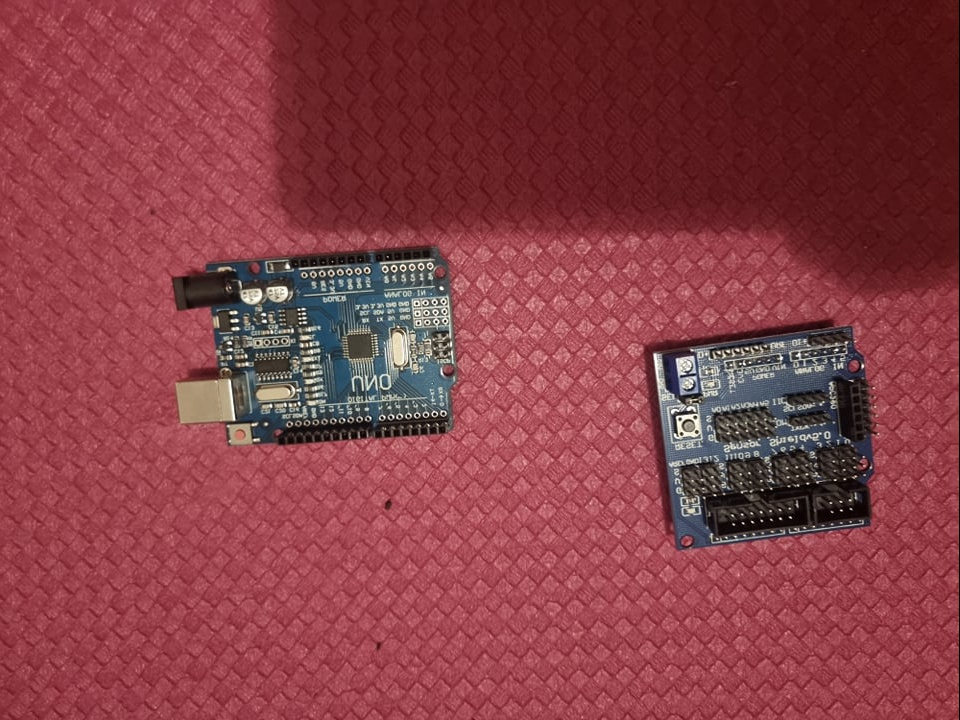5V EXPANSION: (649, 311, 886, 550)
UNO R3: (168, 247, 459, 449)
